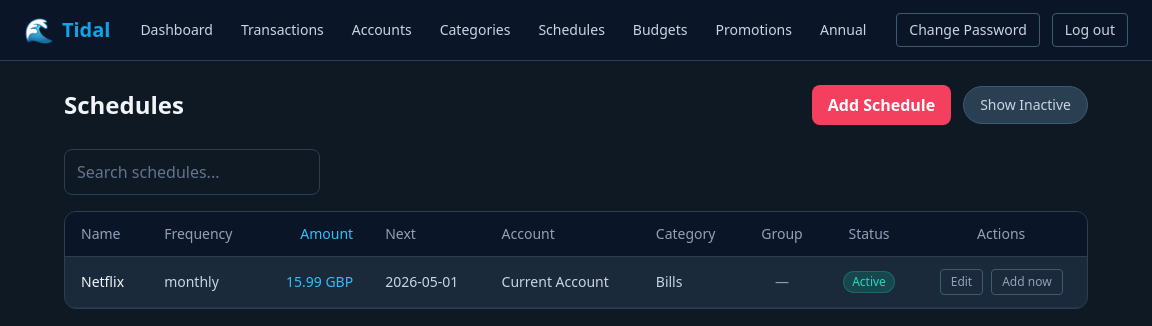
Test: SchedulesPage › toggles a schedule from active to inactive when the badge is clicked
The image size is (1152, 326).
Click the button "Active" at point(869, 282), box x1=843 y1=271 x2=895 y2=293
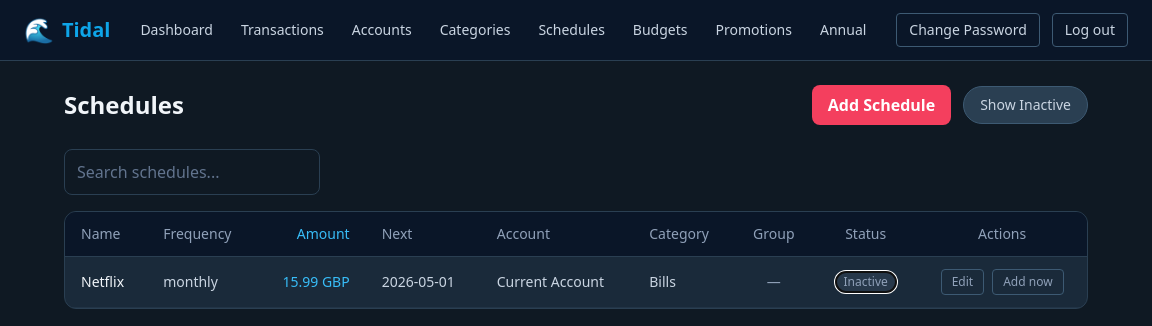
Expected: the button "Inactive" is shown, x1=834 y1=271 x2=897 y2=293
